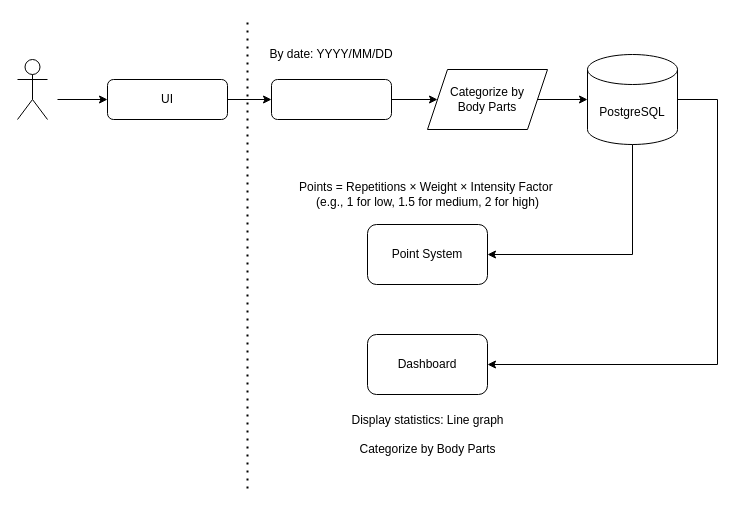
The diagram is 743 pixels wide and 507 high, and some of its shapes have lost their labels. The shapes that lost their labels are listed below. From the top down, each one's box as (x1, y1, x2, y2) in pixels, then its label:
(16, 58, 48, 120): Actor
(270, 78, 392, 120): Log Workout
